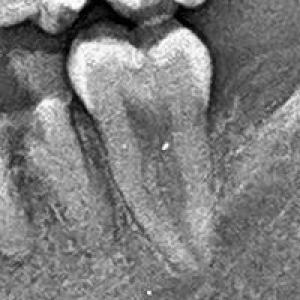tooth: (69, 24, 216, 271), (0, 91, 109, 260)
